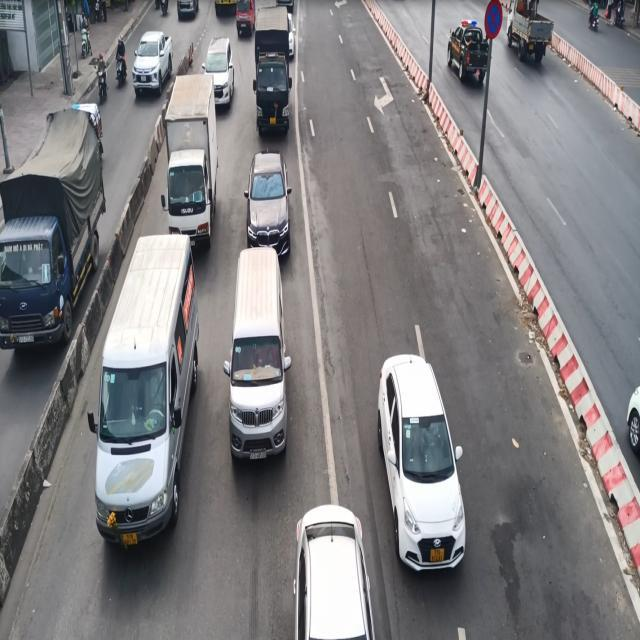car: (87, 232, 200, 549), (376, 353, 466, 573), (292, 503, 375, 639), (625, 385, 639, 456)
truck: (0, 103, 106, 350), (158, 72, 228, 245)
